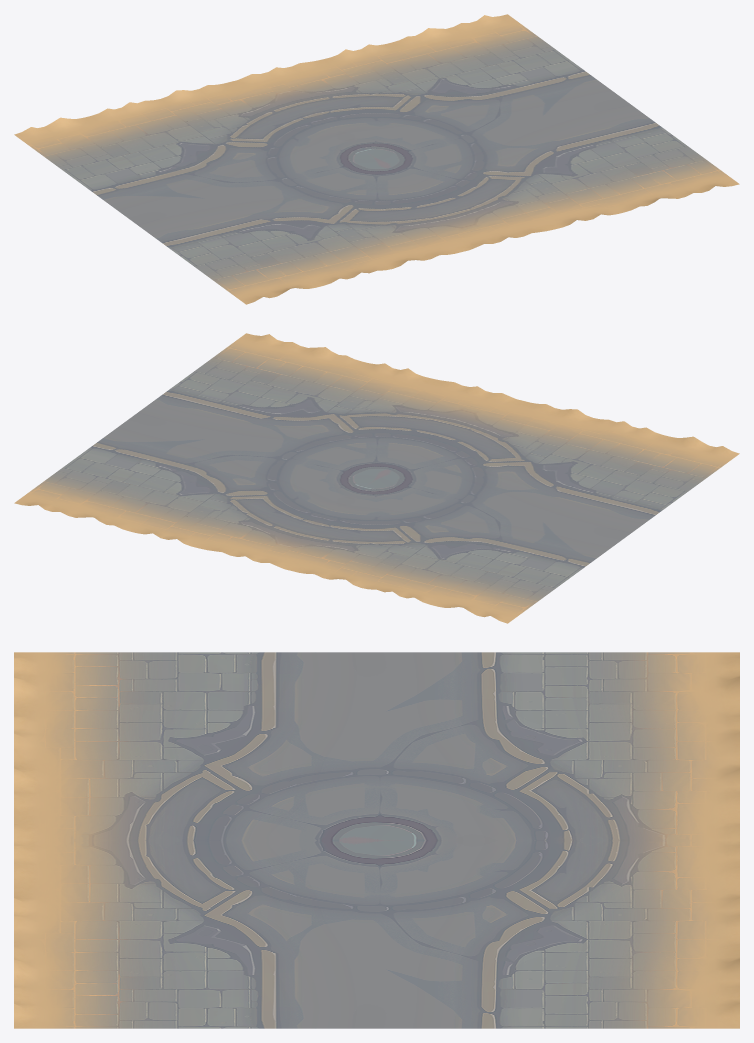
File: Bridge22.FBX
The picture shows the model from 3 angles, top to bottom: view 1: azimuth 30°, elevation 25°; view 2: azimuth 150°, elevation 25°; view 3: azimuth 270°, elevation 25°; orthographic projection. The views are drawn at different scales.
Visible parts, largest first — view 1: Object004; view 2: Object004; view 3: Object004.
Part boxes in pixels (bbox=[...]): Object004: bbox=[14, 14, 739, 304]; Object004: bbox=[14, 333, 739, 623]; Object004: bbox=[14, 652, 739, 1028].
Size of the model in its own units: 32.03 by 0.3627 by 26.1.
Materials: 1 (1 with a texture image).
